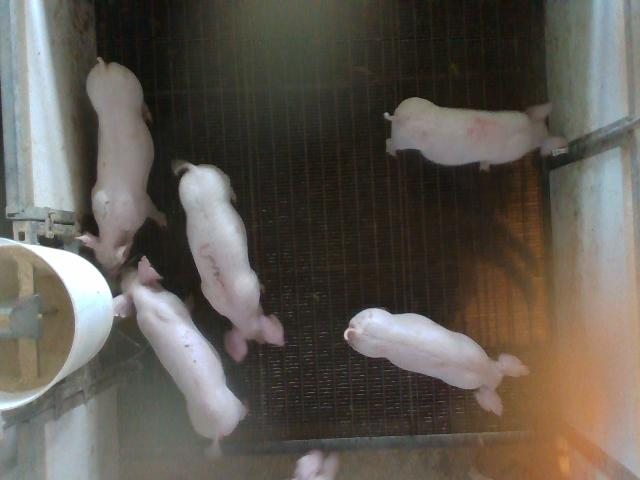pig-4: (384, 98, 568, 169)
pig-5: (172, 160, 284, 362)
